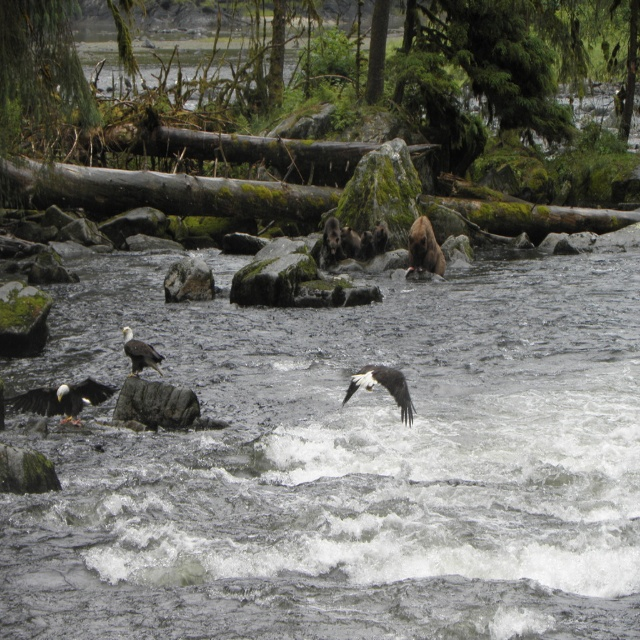Eagle: (339, 361, 420, 428)
